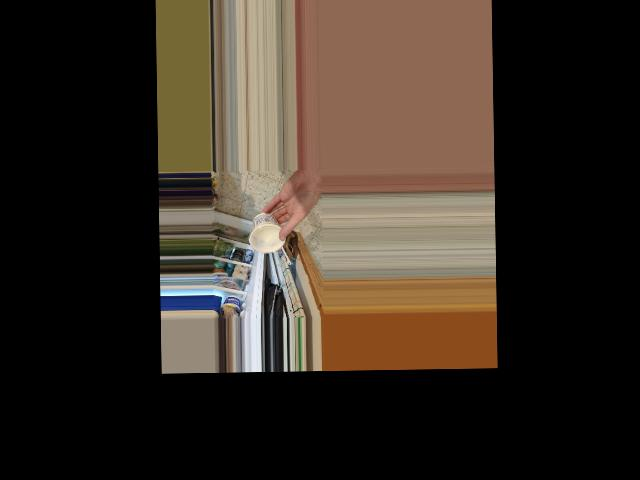cotage: (249, 212, 281, 251)
